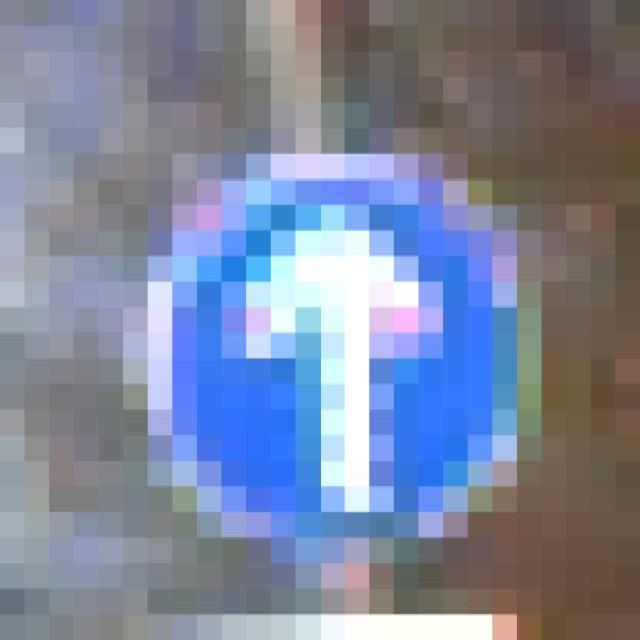Straight Ahead Only: (117, 124, 585, 585)
